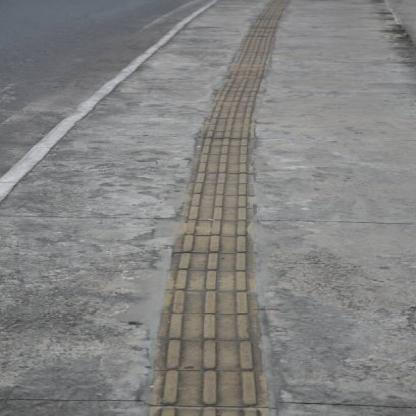podotacti: (156, 8, 287, 416)
